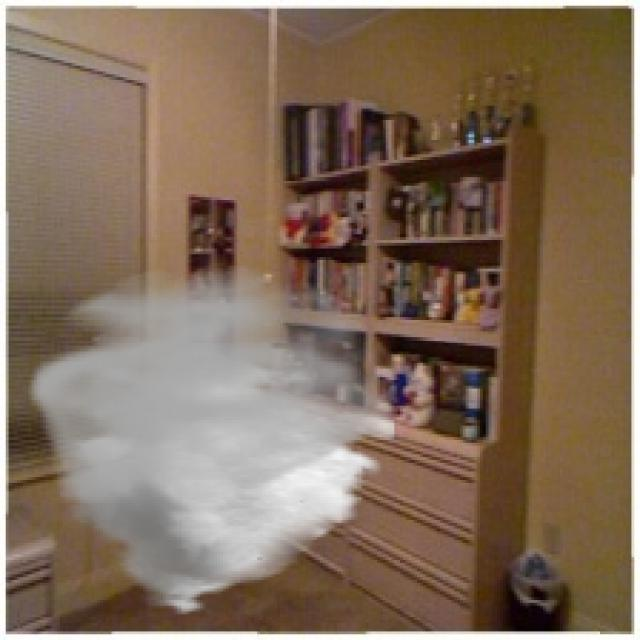smoke: (23, 266, 394, 617)
